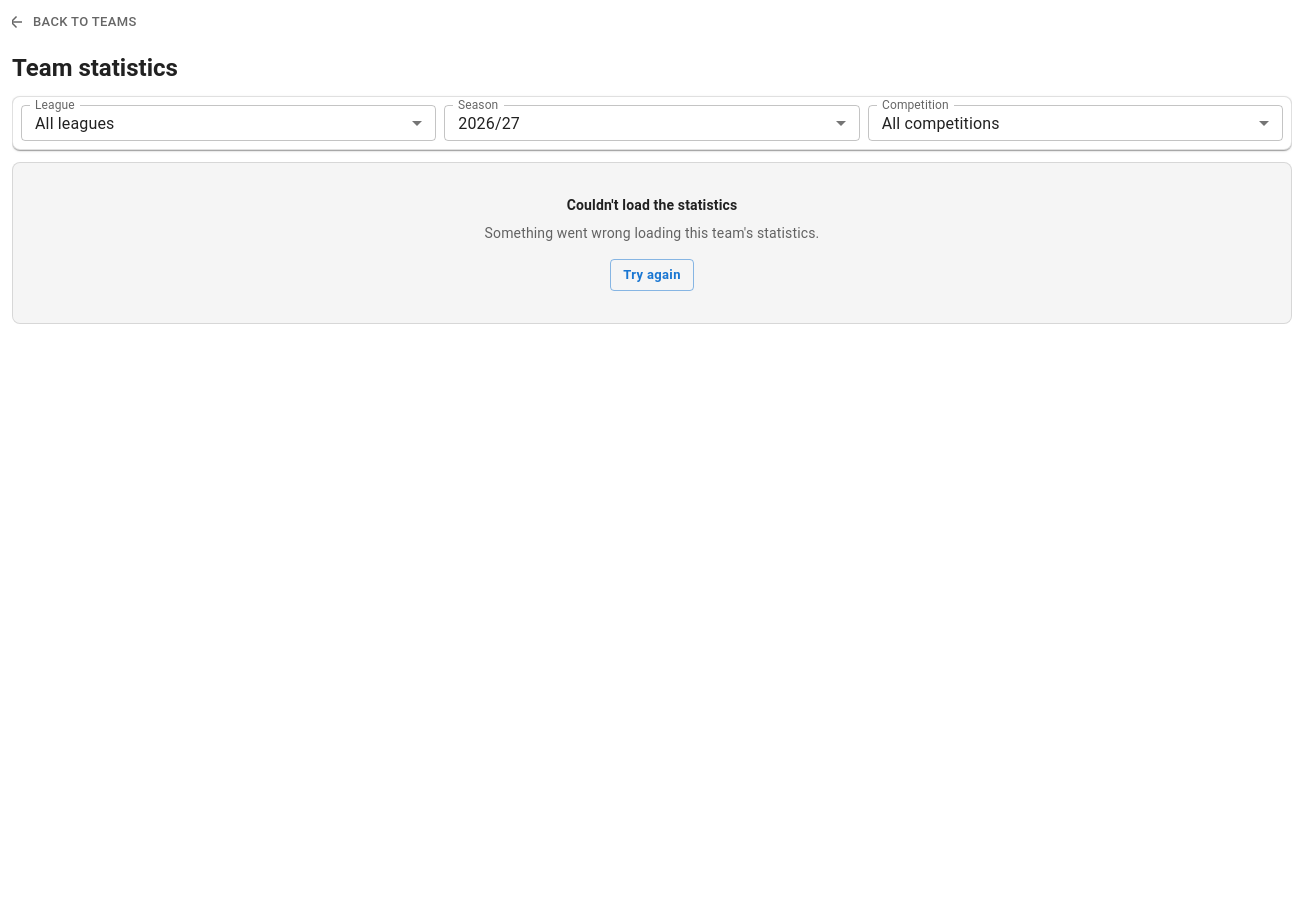
Test: TeamStatsPage › empty, loading and error states › a failed load shows Try again, which reloads
Check: the text "Couldn't load the statistics" is shown, box [567,195,737,215]
Step 1. Click the button "Try again" → (652, 275), box [610,259,694,291]
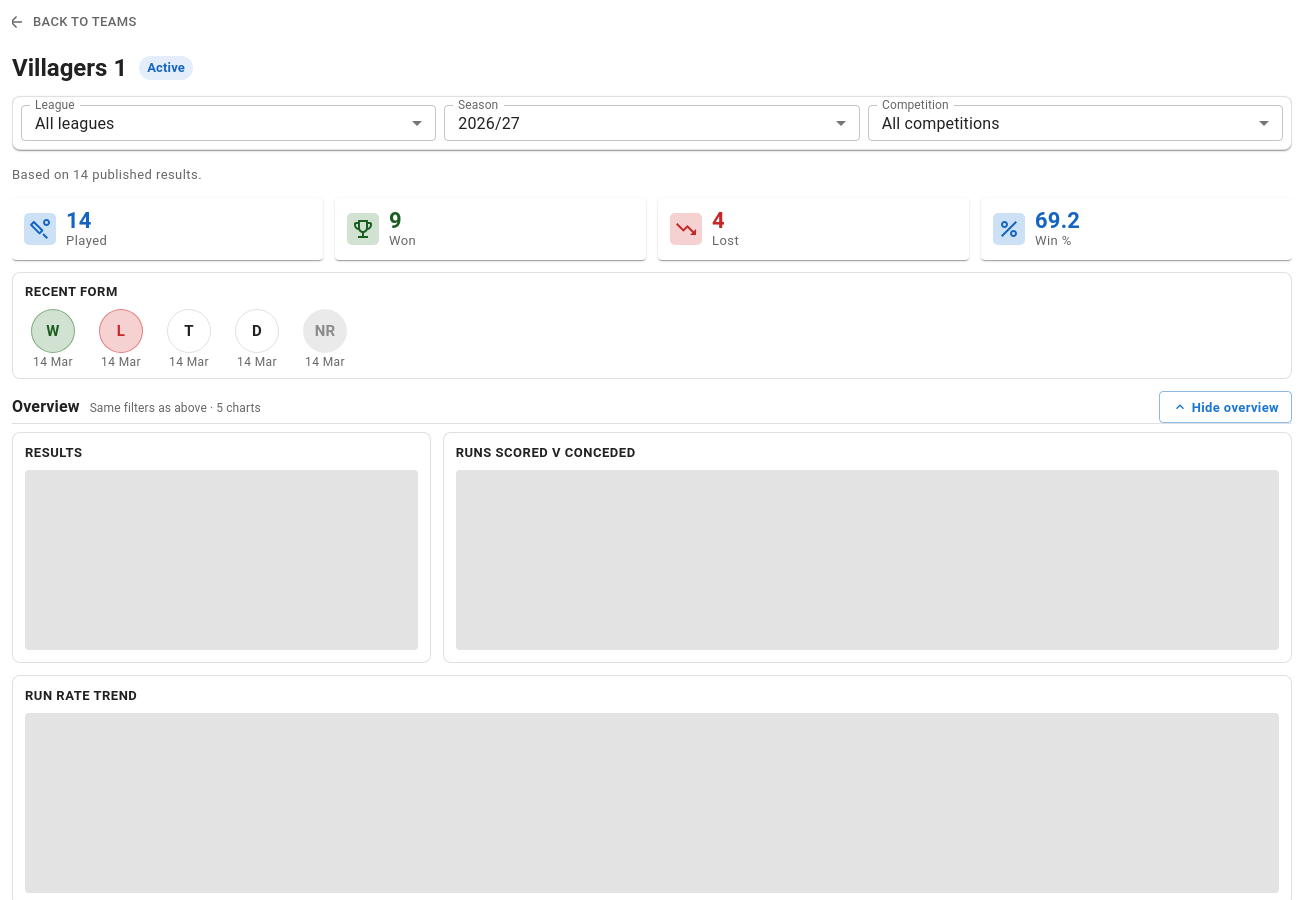
Check: the text "Couldn't load the statistics" is gone
